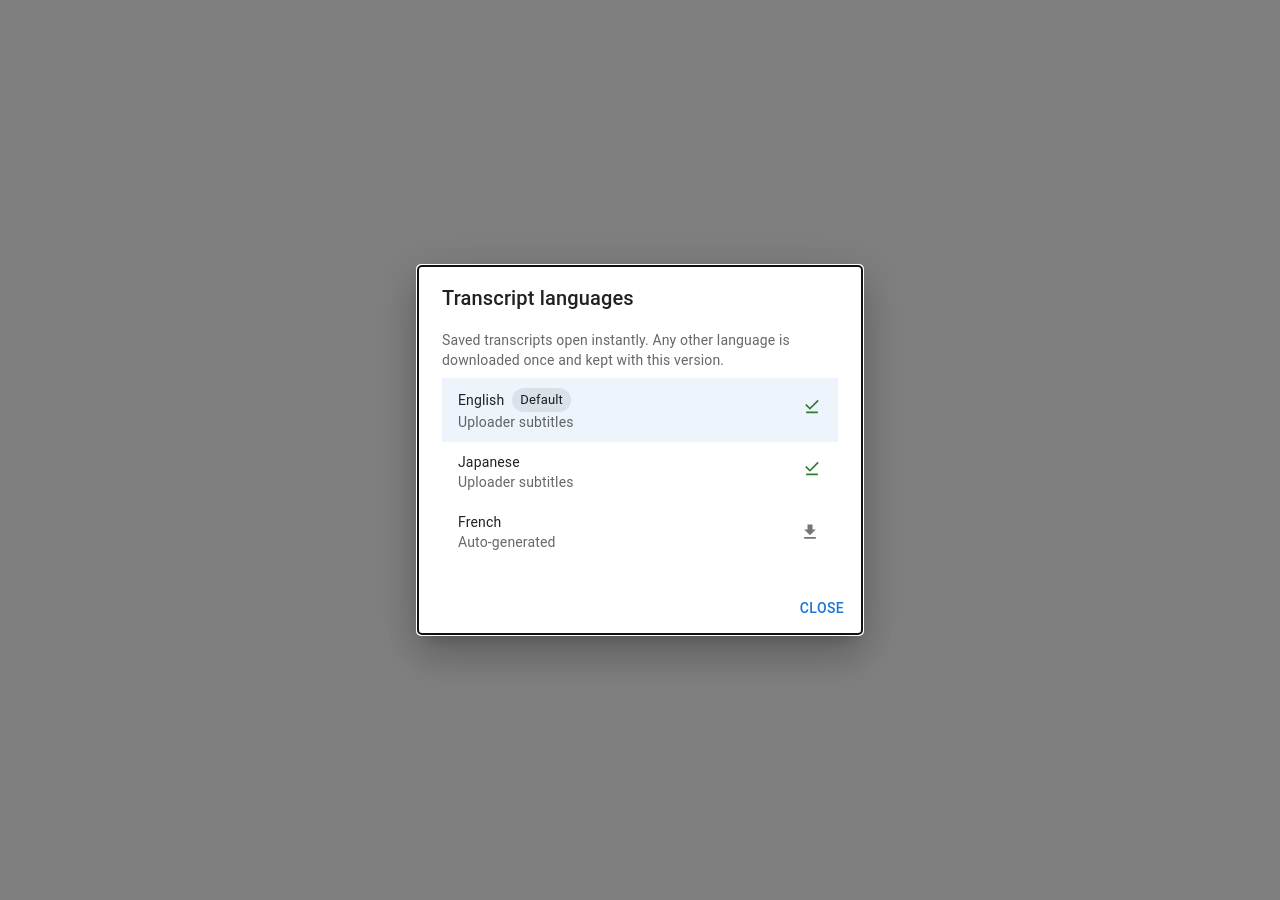
Test: TranscriptLanguagesDialog › keeps the dialog open with the error when a download fails
This screenshot has width=1280, height=900.
Click the text "French": click(480, 522) top-left (458, 512), bottom-right (501, 532)
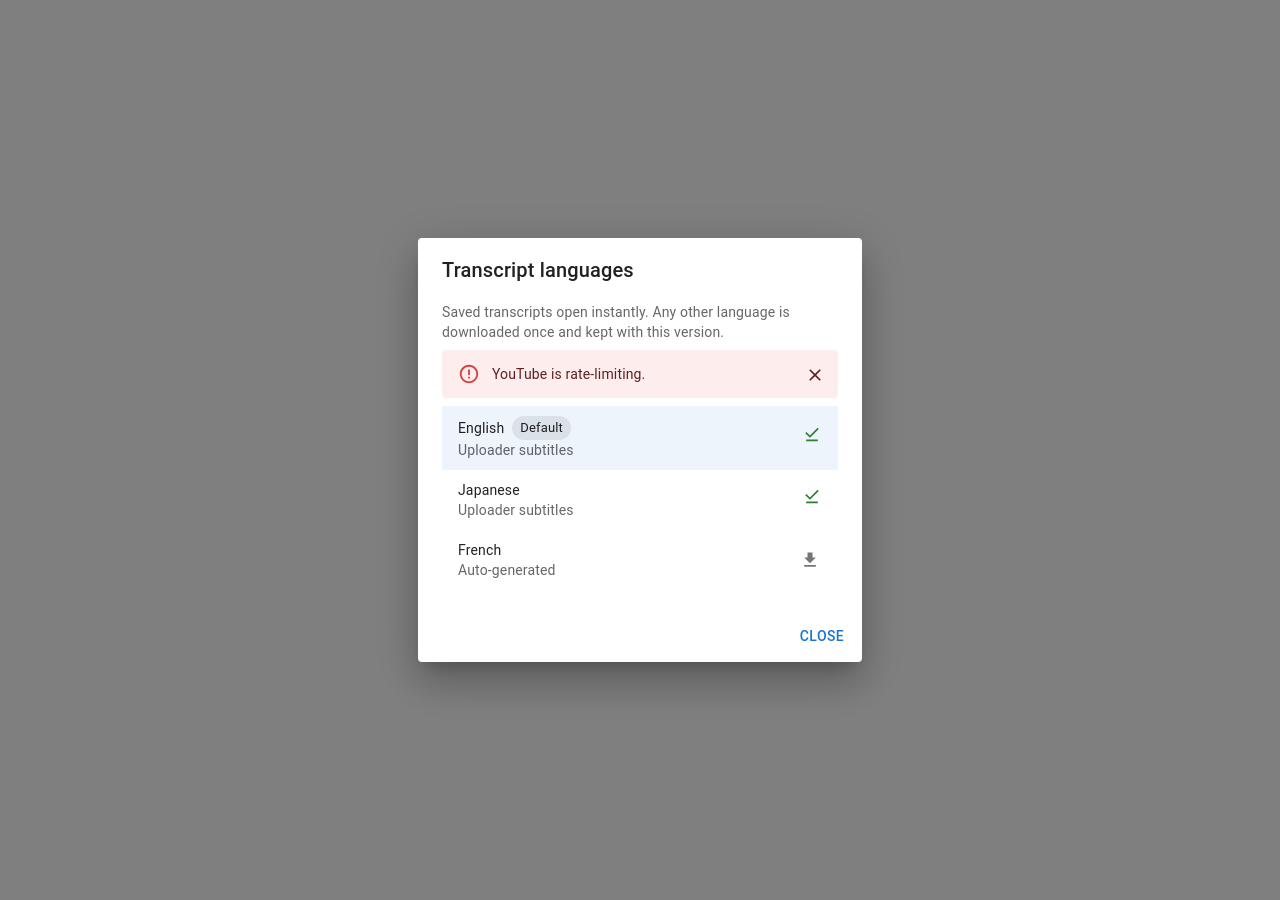
Expected: the button named "Download French" is shown, top-left (795, 545), bottom-right (825, 575)
Expected: the text "YouTube is rate-limiting." is shown, top-left (492, 366), bottom-right (645, 382)
